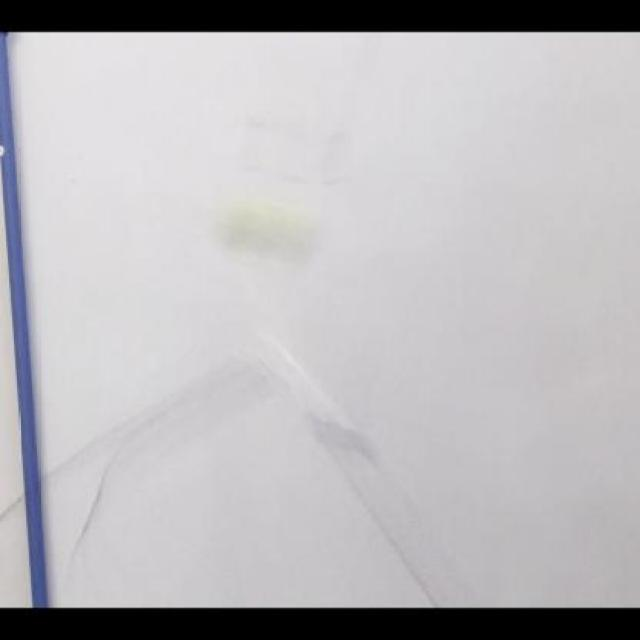baseball: (210, 196, 322, 273)
